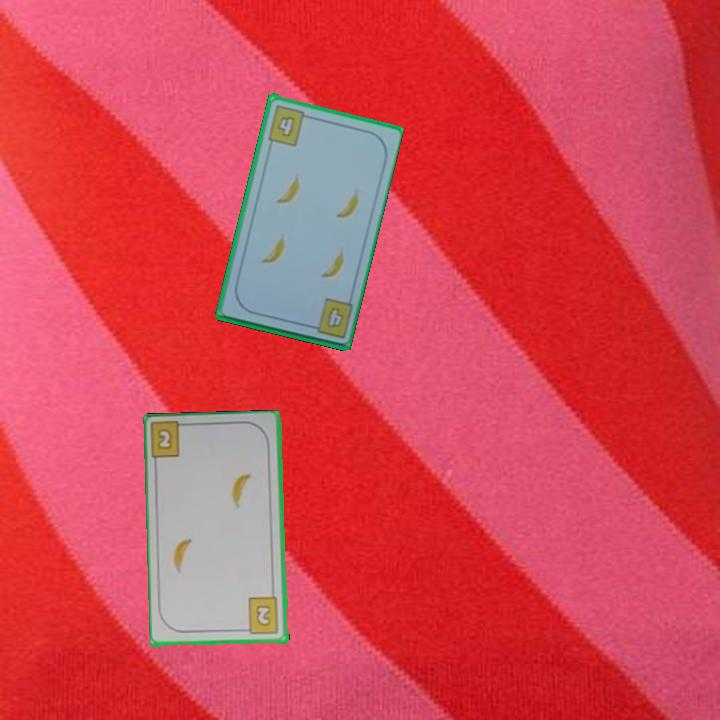2b: (149, 420, 192, 463), (240, 595, 281, 637)
4b: (304, 295, 355, 341), (264, 101, 313, 148)
